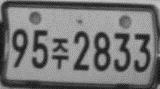2: (72, 30, 90, 71)
3: (133, 33, 152, 72), (113, 32, 131, 71)
5: (31, 29, 48, 69)
8: (93, 31, 111, 71)
9: (11, 28, 28, 67)
주: (50, 37, 69, 70)
